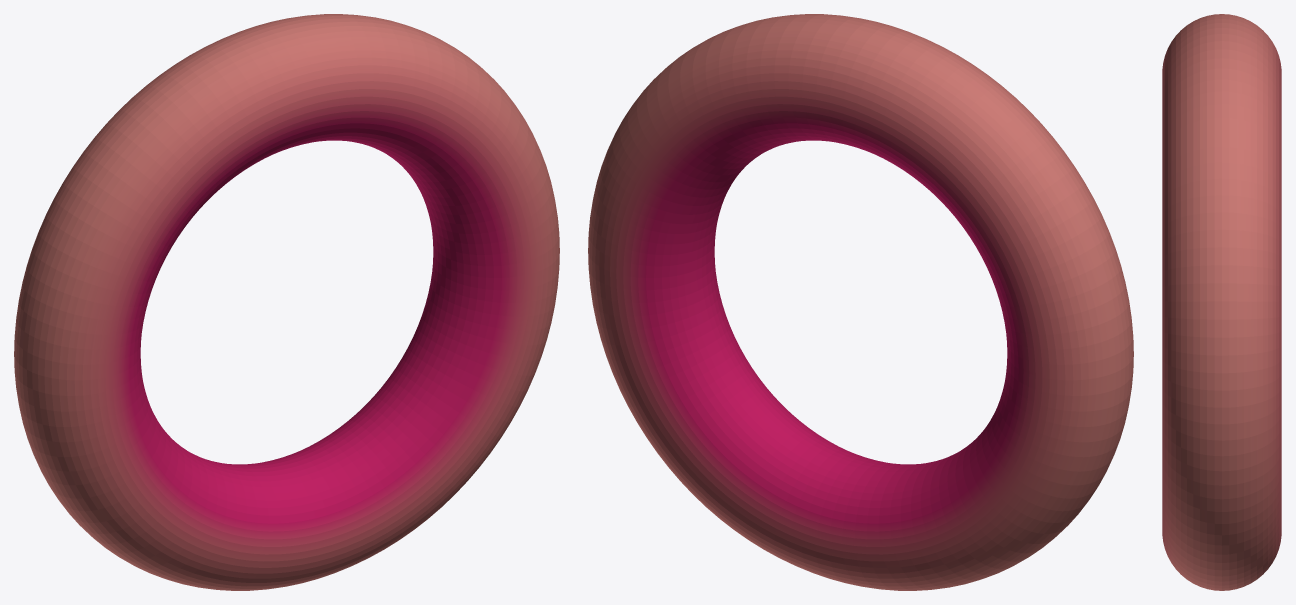
3 renders of one model, left to right at view 1: azimuth 30°, elevation 25°; view 2: azimuth 150°, elevation 25°; view 3: azimuth 270°, elevation 25°, orthographic. The views are drawn at different scales.
Visible parts, largest first — view 1: world; view 2: world; view 3: world.
Boxes of the visible parts, x1,y1,x2,y2 form: world: [14, 14, 559, 590]; world: [588, 14, 1133, 590]; world: [1162, 14, 1281, 590].
Size of the model in its own units: 32.8 by 32.8 by 6.79.
